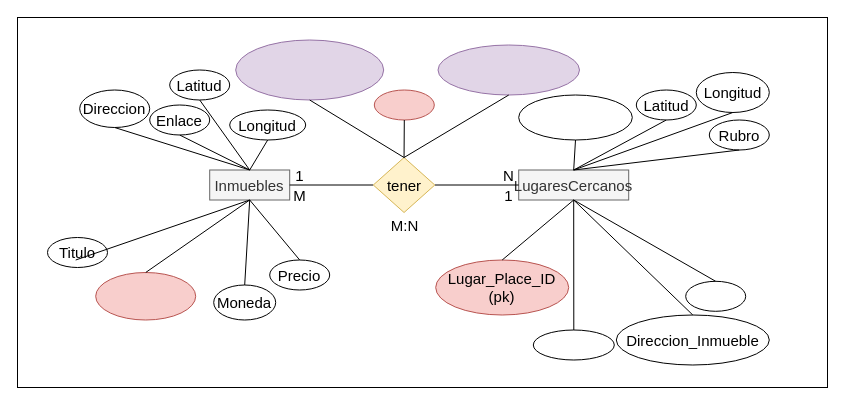
Image size: 845x405. Some labels were removed from this diagram. Each missing label, with the box of its shape:
Dirección: (532, 329, 614, 360)
Id(pk): (373, 89, 434, 120)
Lugar_Place_ID (fk): (437, 44, 580, 95)
Nombre: (685, 280, 746, 311)
Place_ID (pk): (95, 272, 196, 320)
Place_ID_Inmueble (fk): (235, 39, 384, 100)
Titulo_Inmueble: (518, 94, 632, 140)
